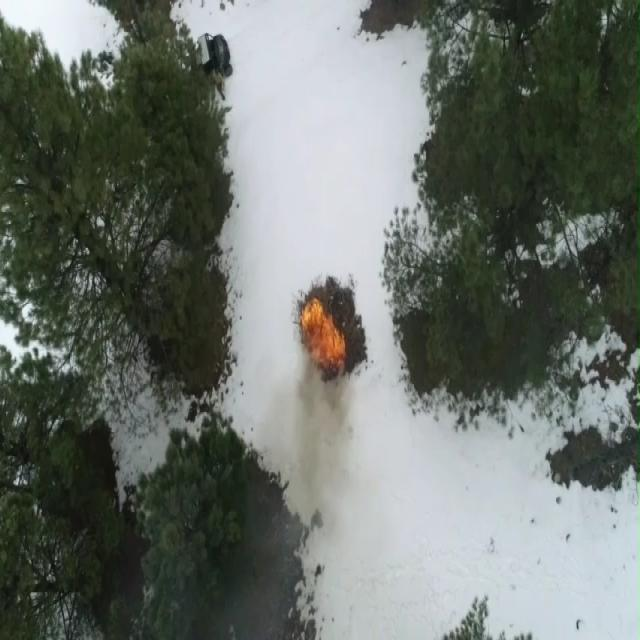Fire: (303, 298, 344, 360)
Smoke: (298, 366, 346, 508)
